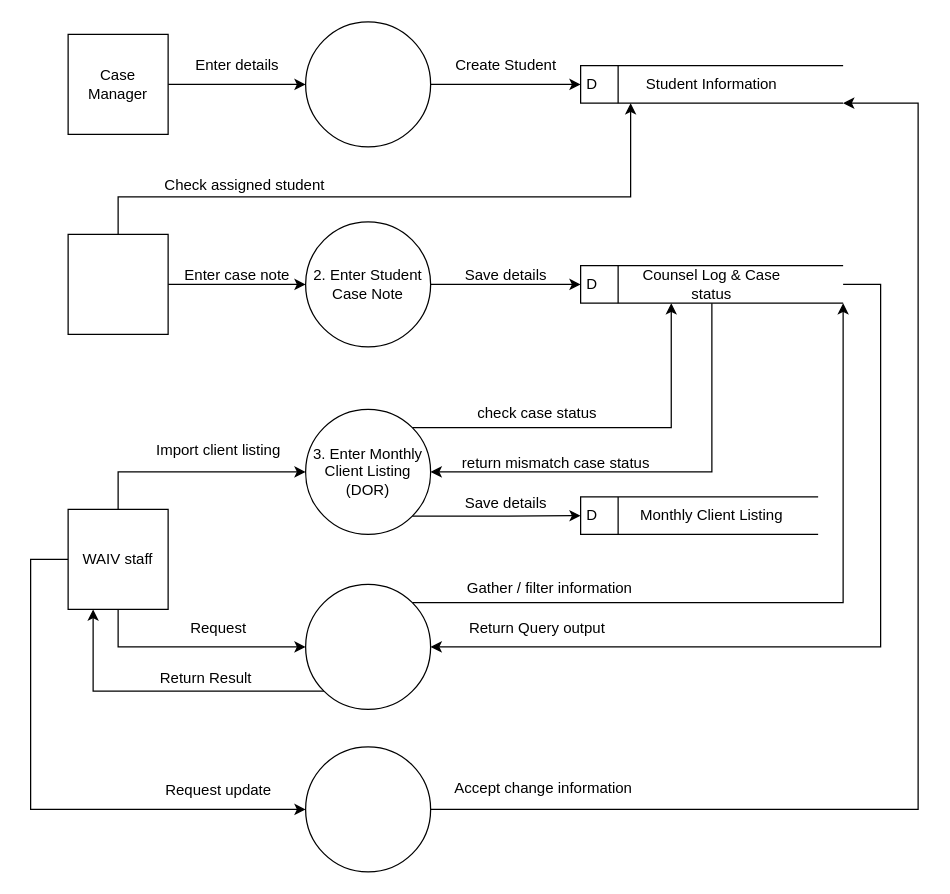
The diagram is 950 pixels wide and 894 high, and some of its shapes have lost their labels. Each missing label, with the centre of its shape:
"1. Enter Student Detail (Intake)" goes at (367,84).
"4. Make Monthly Progress Report" goes at (367,646).
"5. Update Student Detail" goes at (367,809).
"WAIV counselor" goes at (117,283).
